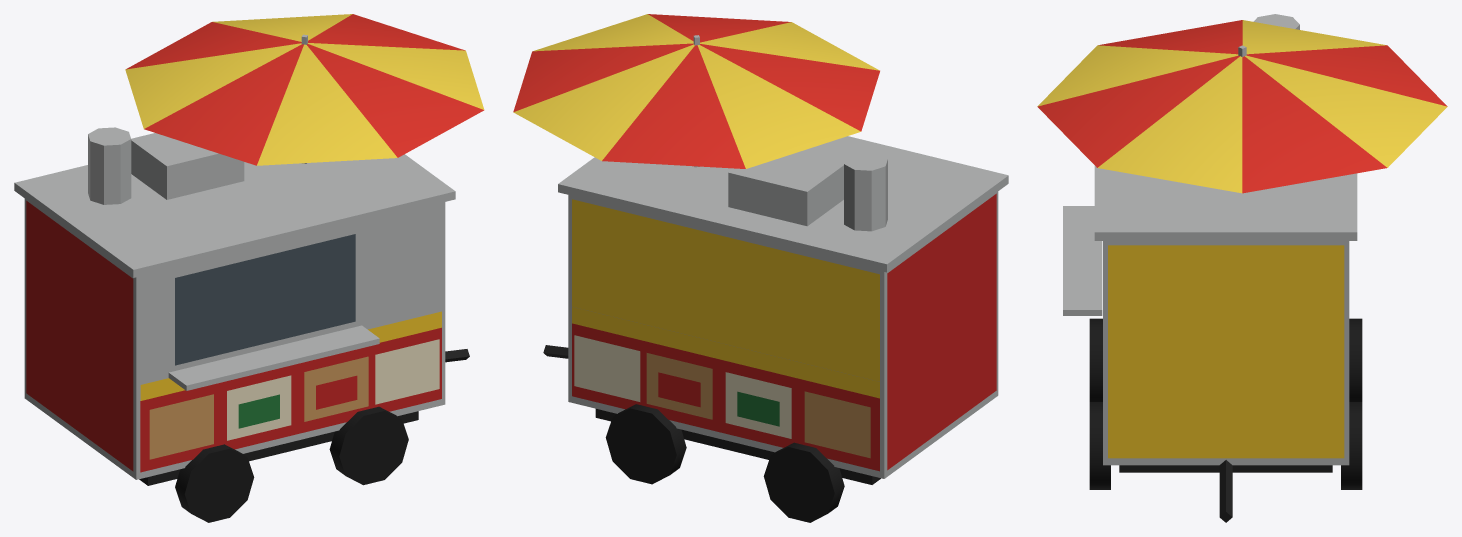
The model's file is nyc_food_cart.glb.
3 views of the same model, side by side, from view 1: azimuth 30°, elevation 25°; view 2: azimuth 150°, elevation 25°; view 3: azimuth 270°, elevation 25° (orthographic). The views are drawn at different scales.
Parts seen in each view (by area): view 1: nyc_food_cart; view 2: nyc_food_cart; view 3: nyc_food_cart.
Part boxes in pixels (bbox=[...]): nyc_food_cart: bbox=[14, 14, 484, 522]; nyc_food_cart: bbox=[513, 14, 1008, 522]; nyc_food_cart: bbox=[1037, 14, 1447, 522].
Bounding box in the file's own units: 3.1 × 2.94 × 2.5.
1 material, 1 textured.
